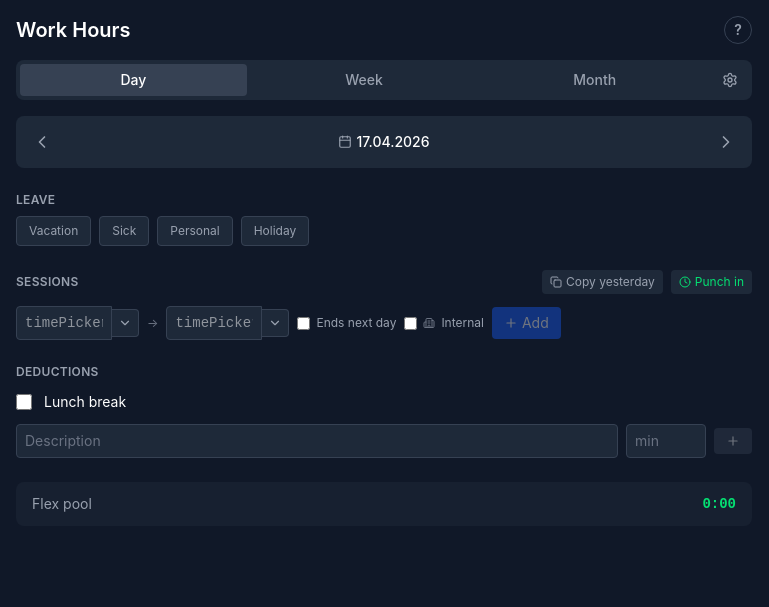
Test case: DayView session conflict messages › reloads the day and re-enables the form after copy-yesterday stops on a conflict
Click the button "Copy yesterday": [602, 282] box [542,270,663,294]
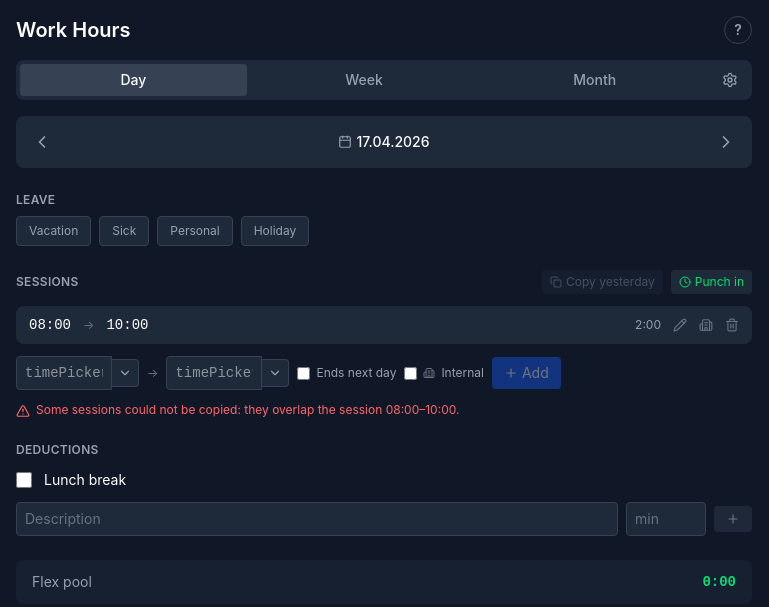
Expected: the text "08:00" is shown, [29,315,71,335]
Expected: the button named "Remove session" is enabled, [725,318,739,332]
